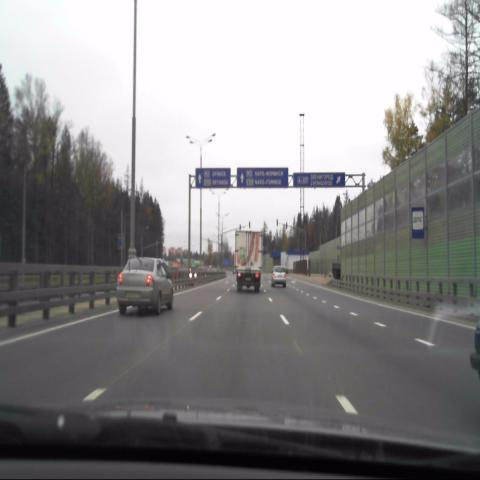7_12: (412, 207, 424, 240)
